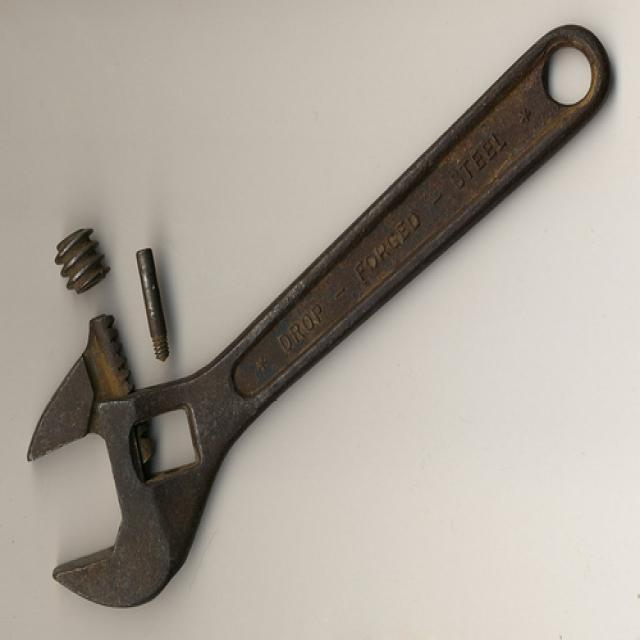wrench: (17, 18, 628, 630)
